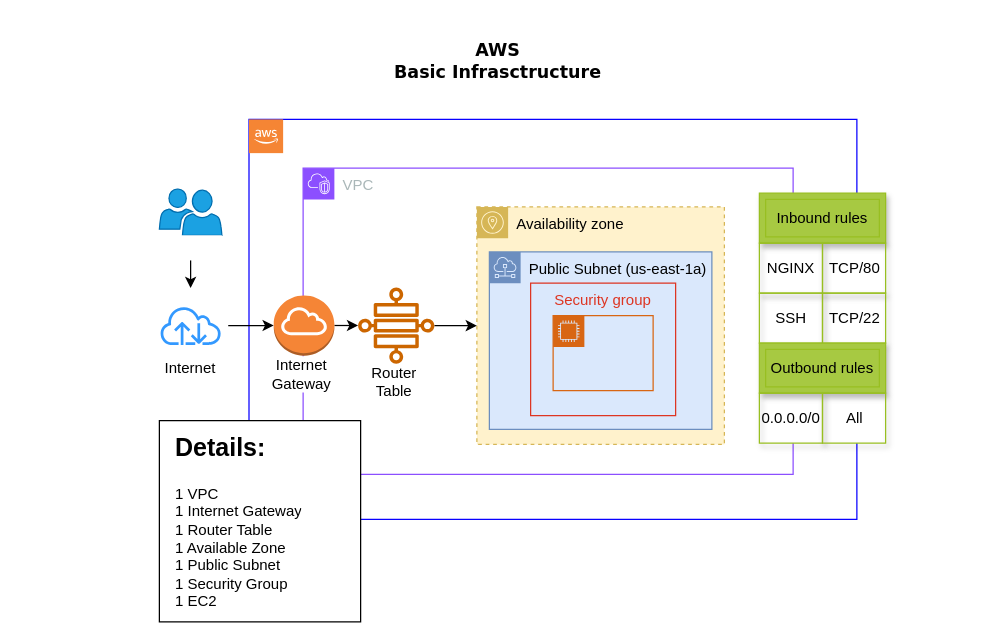
Image size: 1003x644. Some labels were removed from this diagram. The shapes that lost their labels are listed below. From the top down, each one's centre as x and y in pixels, then its label:
At pixel 190 247: "Users".
At pixel 602 352: "EC2".
